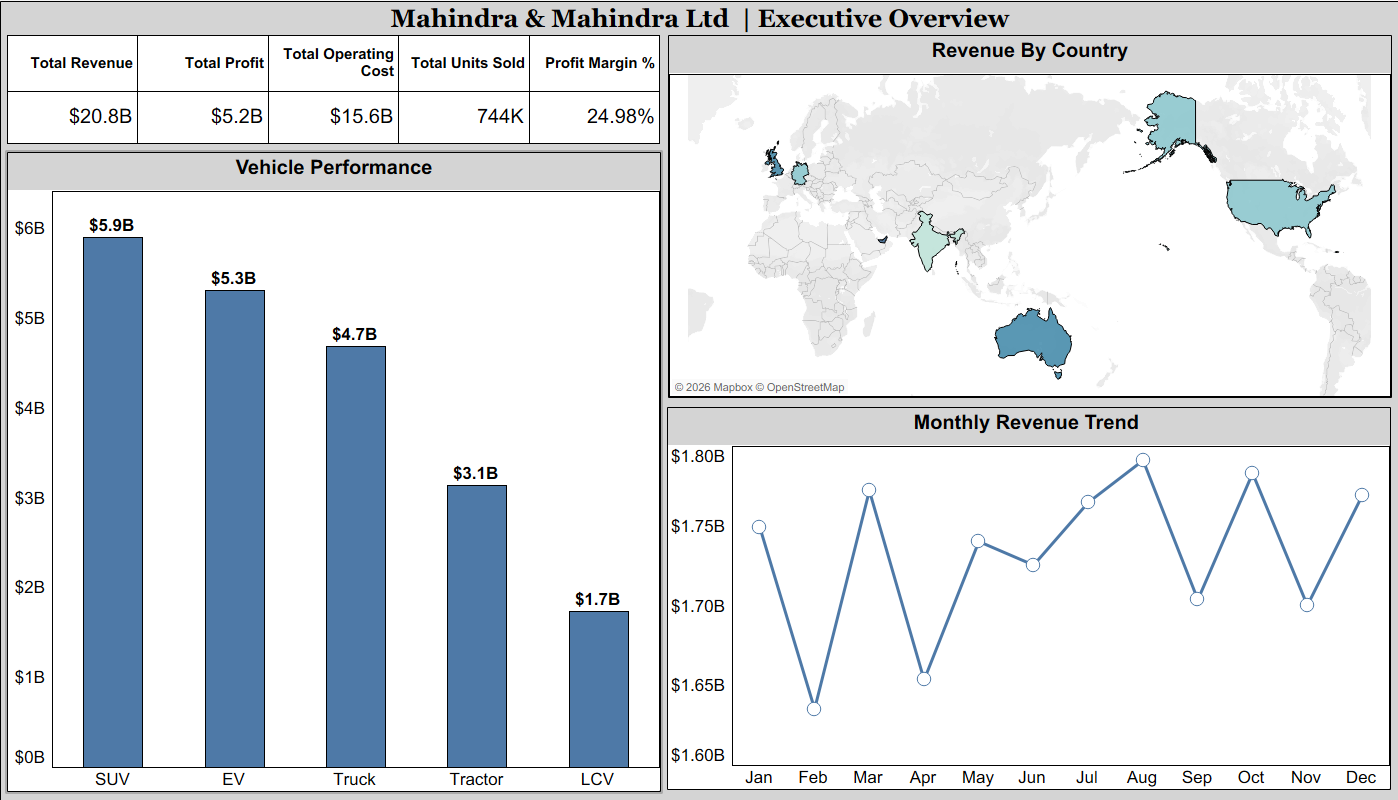

The dashboard page shown, as its layout file describes it:
{"tool":"tableau","page":{"name":"Executive Overview","canvas":[1400,800],"ordinal":1},"visuals":[{"type":"text","box":[0,0,1400,35]},{"type":"worksheet","title":"KPI 1","mark":"Automatic","box":[7,34,653,110]},{"type":"worksheet","title":"Revenue By Country","mark":"Automatic","box":[668,34,724,363]},{"type":"worksheet","title":"Vehicle Performance","mark":"Bar","rows":["Revenue_USD"],"cols":["Vehicle_Type"],"box":[7,151,654,640]},{"type":"worksheet","title":"Monthly Revenue Trend","mark":"Line","rows":["Revenue_USD","Revenue_USD"],"cols":["Month_Name"],"box":[667,406,724,383]}]}

Visuals, with their boxes in screenshot pixels (x1, y1, x2, y2), scaled from the page's 1400x800 canvas onto the 1398x800 screenshot:
text: (x1=0, y1=0, x2=1397, y2=35)
"KPI 1" worksheet: (x1=7, y1=34, x2=659, y2=144)
"Revenue By Country" worksheet: (x1=667, y1=34, x2=1390, y2=397)
"Vehicle Performance" worksheet (Bar marks): (x1=7, y1=151, x2=660, y2=791)
"Monthly Revenue Trend" worksheet (Line marks): (x1=666, y1=406, x2=1389, y2=789)
